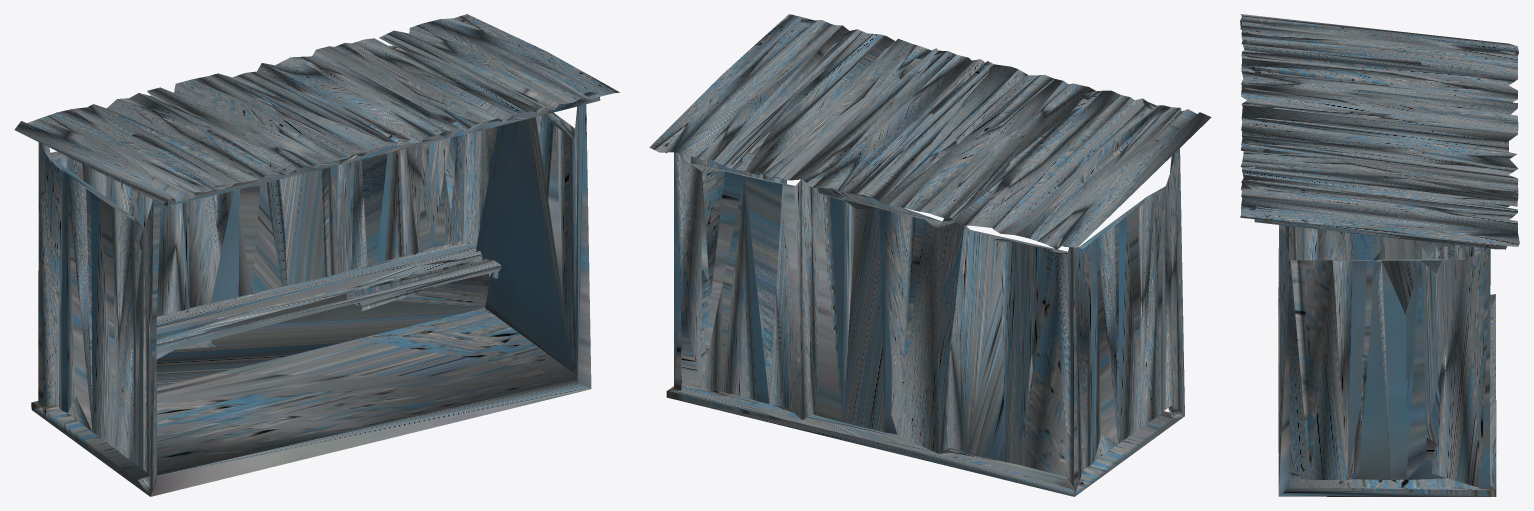
File: Soviet_Bus_Stop_Shelt.glb
3 views of the same model, side by side, from view 1: azimuth 30°, elevation 25°; view 2: azimuth 150°, elevation 25°; view 3: azimuth 270°, elevation 25° (orthographic). The views are drawn at different scales.
Visible parts, largest first — view 1: output_unwrapped; view 2: output_unwrapped; view 3: output_unwrapped.
Boxes of the visible parts, box(x1,y1,x2,y2) form: output_unwrapped: box(14, 14, 619, 496); output_unwrapped: box(649, 14, 1211, 496); output_unwrapped: box(1240, 14, 1519, 496).
Bounding box in the file's own units: 4.79 × 3.13 × 2.77.
Materials: 1 (1 with a texture image).
